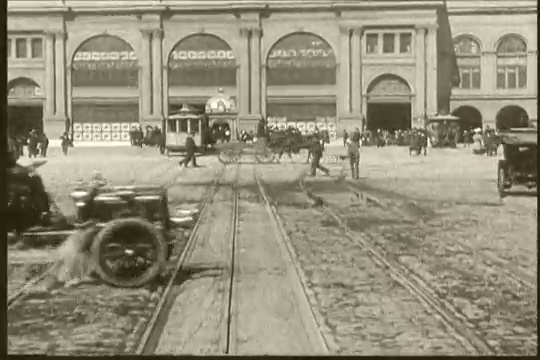car: (1, 143, 195, 294), (487, 124, 540, 205)
carriage: (209, 114, 330, 168)
